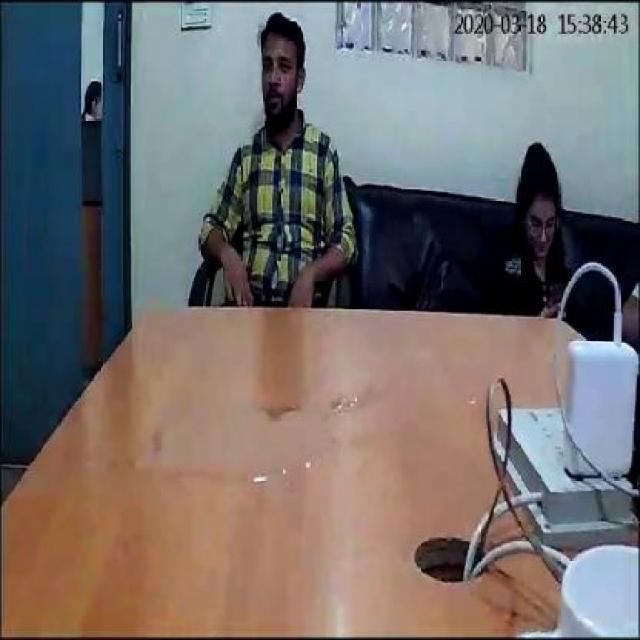spill: (121, 390, 352, 490)
